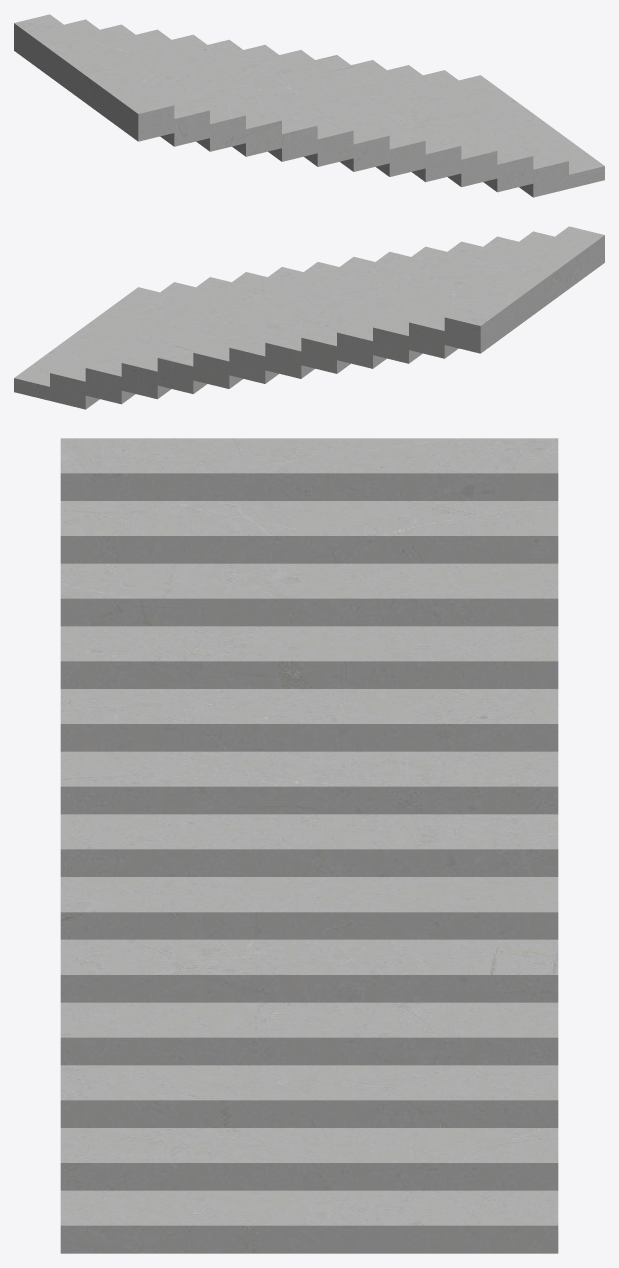
File: StairsShorter.FBX
The picture shows the model from 3 angles, top to bottom: view 1: azimuth 30°, elevation 25°; view 2: azimuth 150°, elevation 25°; view 3: azimuth 270°, elevation 25°; orthographic projection. The views are drawn at different scales.
Visible parts, largest first — view 1: StairsShorter; view 2: StairsShorter; view 3: StairsShorter.
Boxes of the visible parts, left/top/right/bottom form: StairsShorter: left=14, top=14, right=604, bottom=197; StairsShorter: left=14, top=226, right=604, bottom=409; StairsShorter: left=60, top=438, right=558, bottom=1253.
Bounding box in the file's own units: 650 × 300 × 239.
